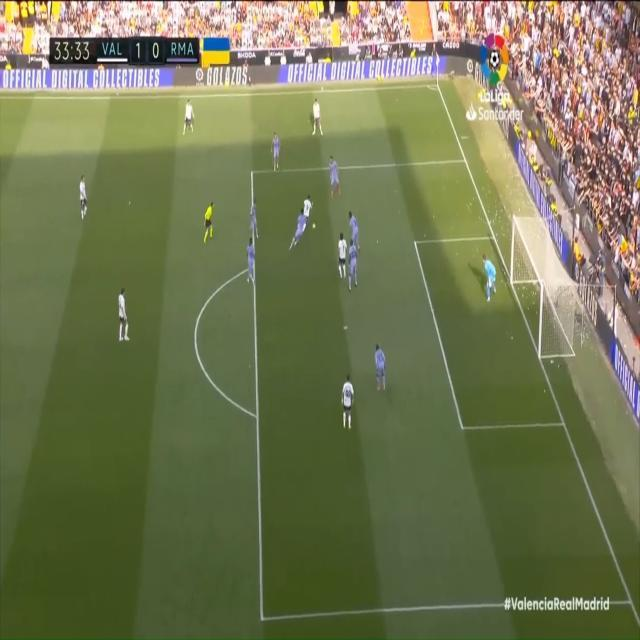ball: (311, 217, 318, 234)
goalkeeper: (477, 254, 501, 312)
player: (338, 371, 362, 438), (111, 283, 134, 346), (369, 340, 390, 403), (322, 155, 344, 204), (309, 90, 327, 145), (345, 240, 362, 297), (288, 210, 308, 255), (268, 134, 286, 180), (183, 94, 199, 144), (76, 174, 94, 218), (345, 211, 363, 252), (247, 236, 259, 296), (248, 199, 264, 243), (338, 234, 350, 285), (301, 195, 313, 226)
referee: (202, 198, 221, 254)
